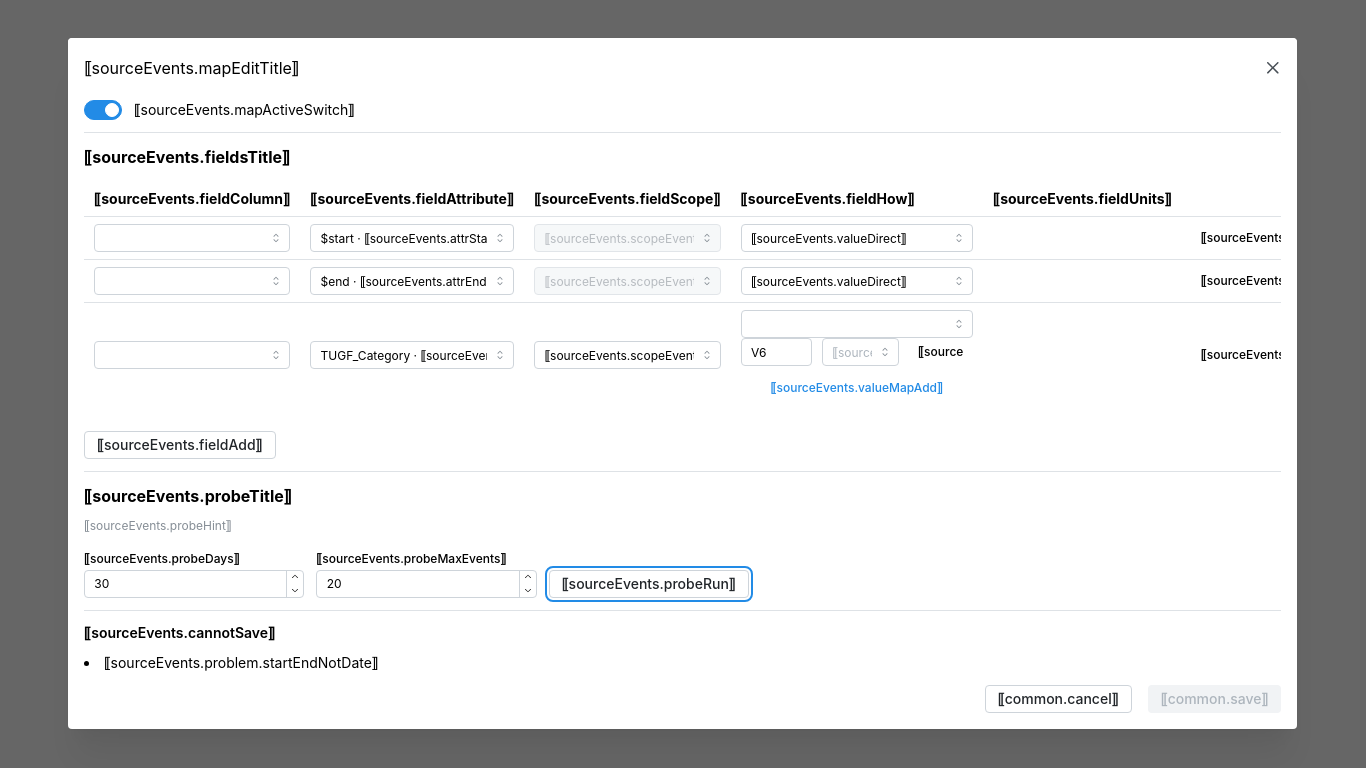
Test: SourceEventMapModal — клавіатура › підсумок проби отримує фокус; таблицю проби можна прокрутити з клавіатури
(page scrolled)
Click the button "⟦sourceEvents.probeRun⟧" at (649, 584), box [549,570,749,598]
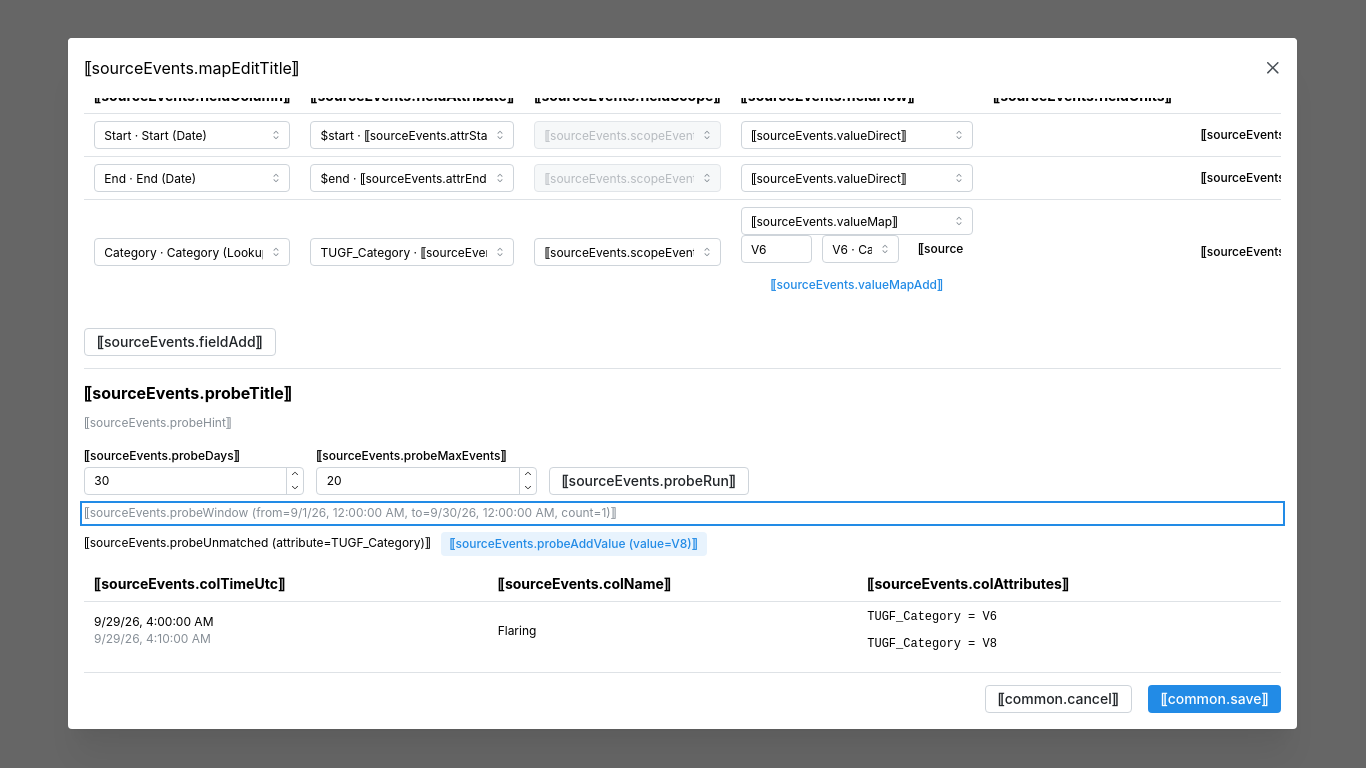
Expected: the table named "⟦sourceEvents.probeTitle⟧" is shown, [84,566,1282,660]
